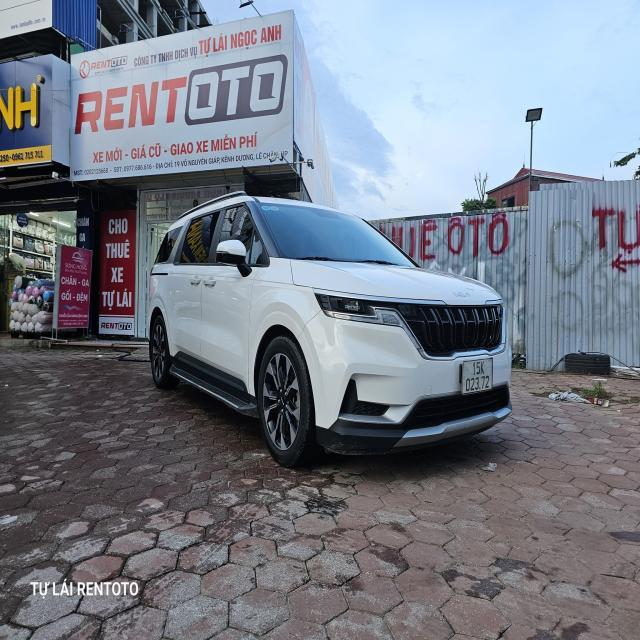car: (136, 195, 513, 473)
plate: (452, 352, 502, 397)
